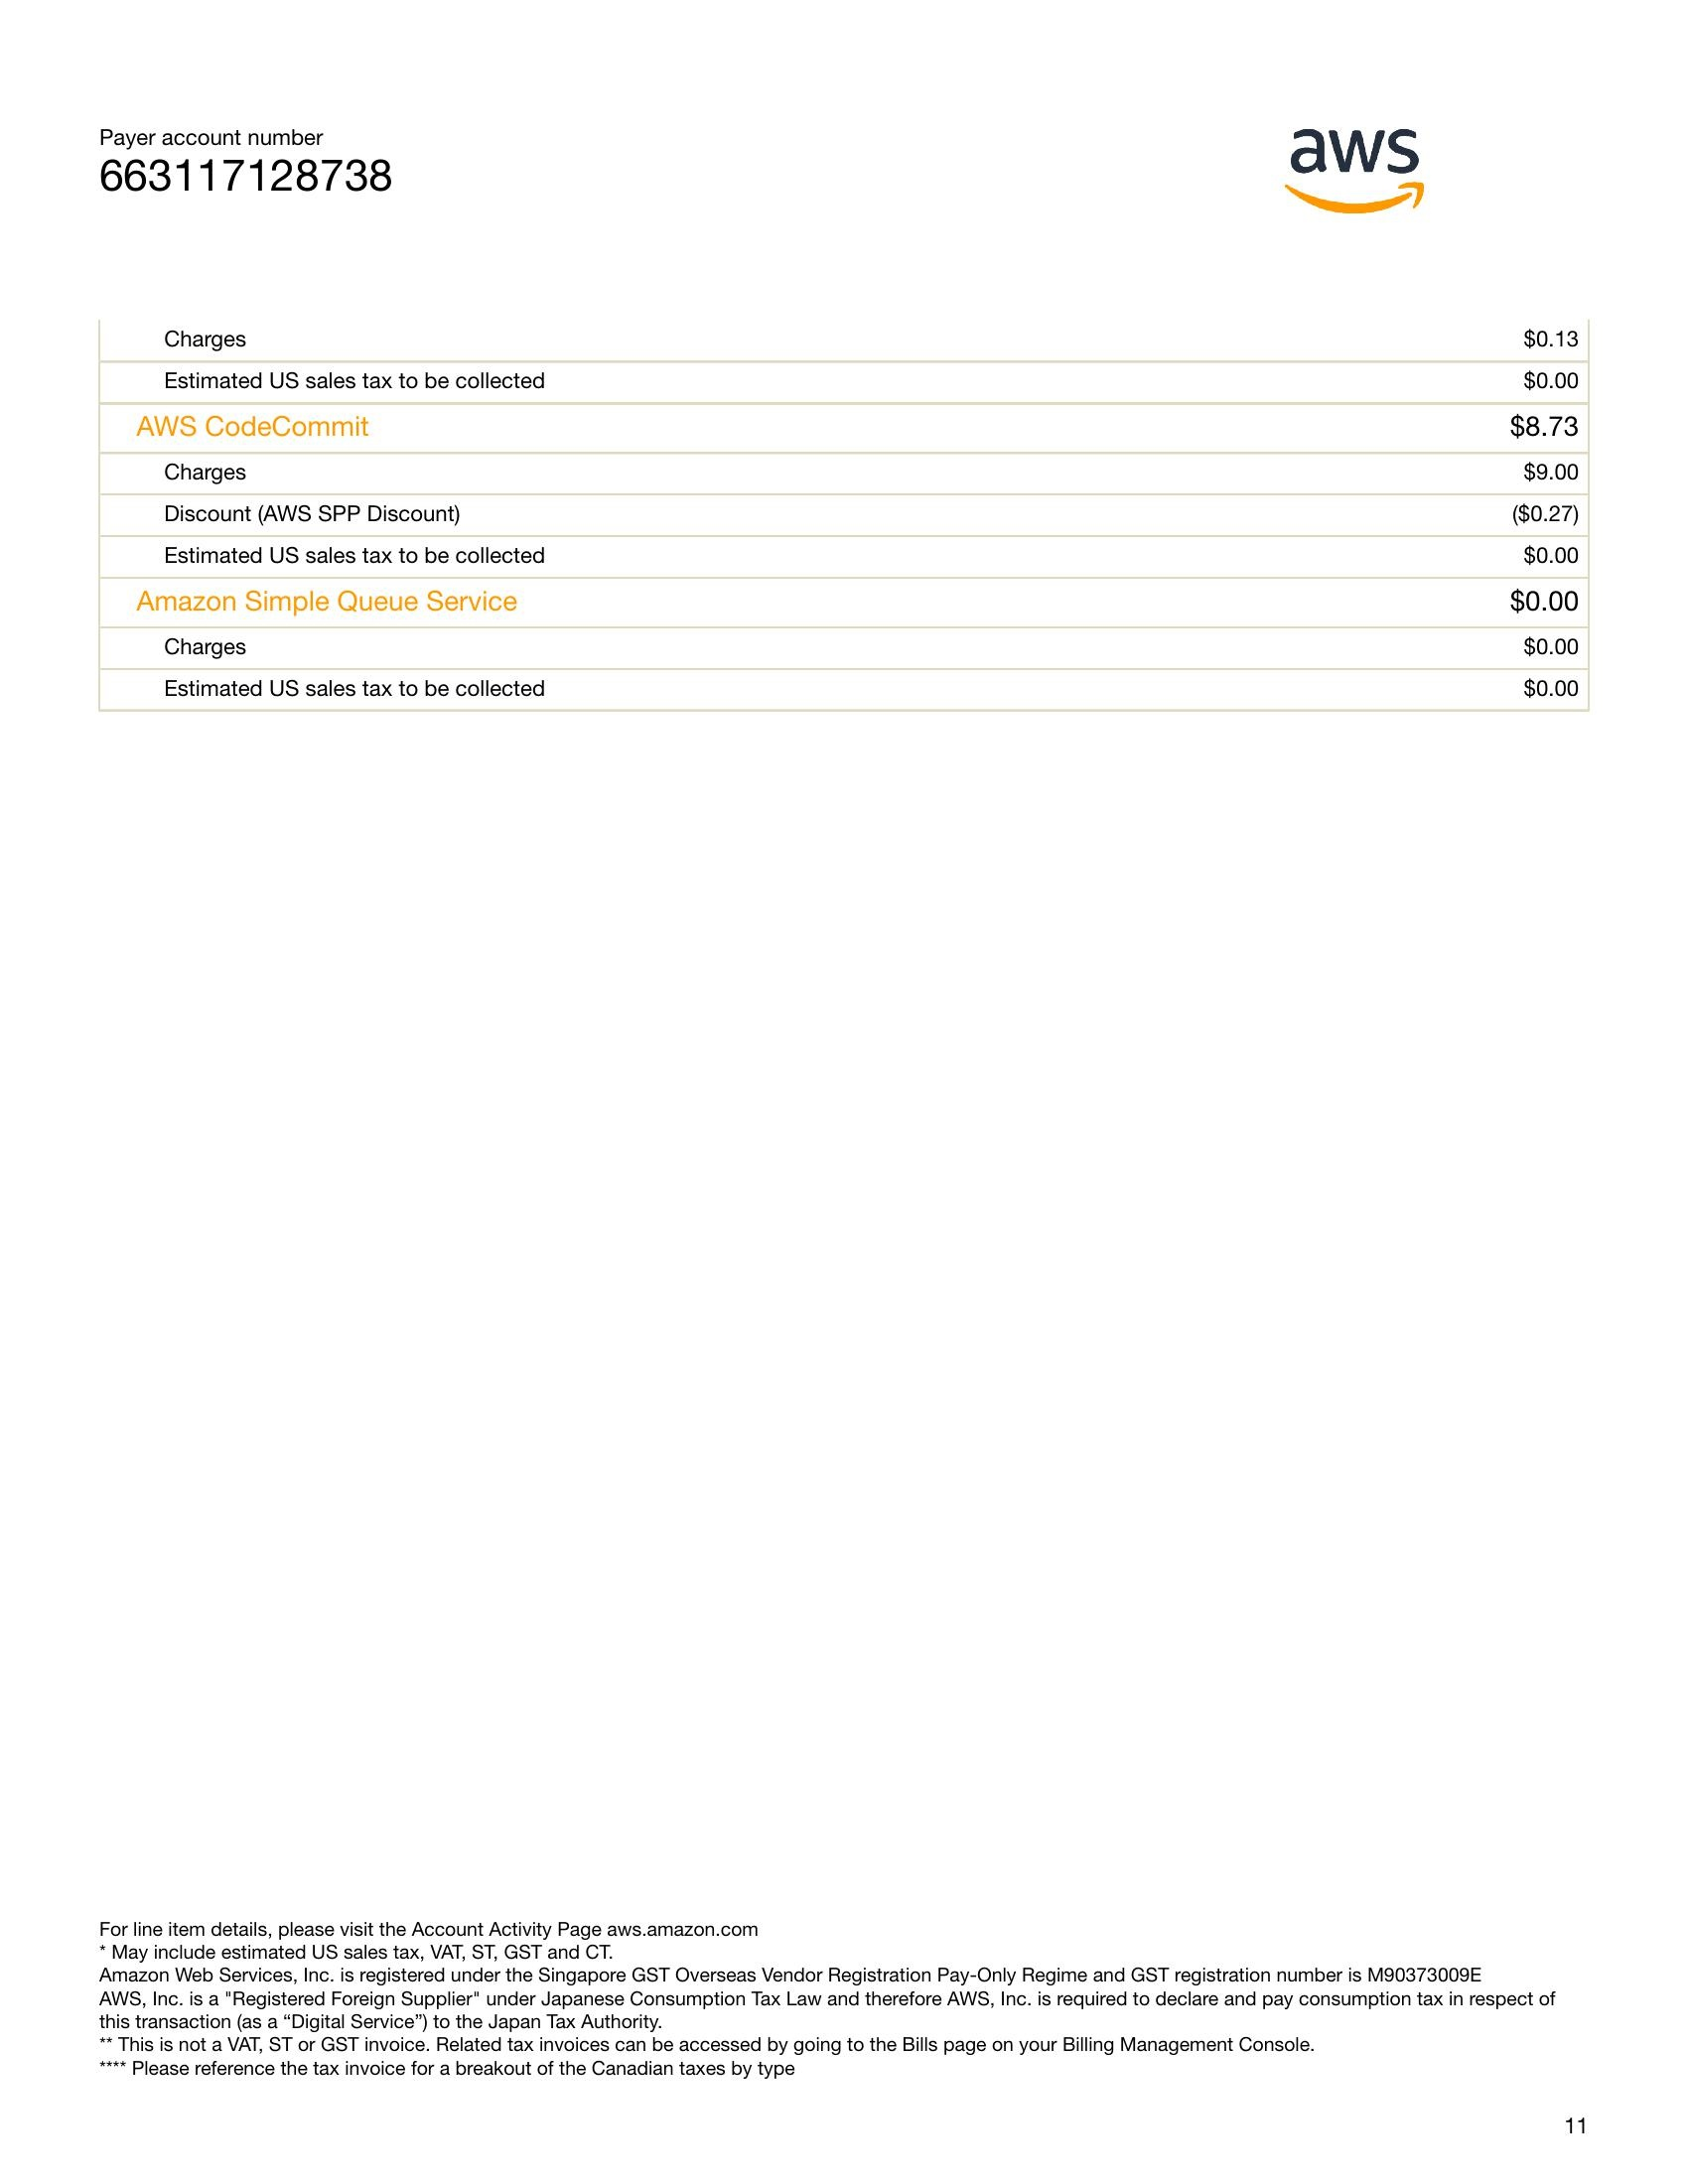0 table: (71, 301, 1585, 714)
